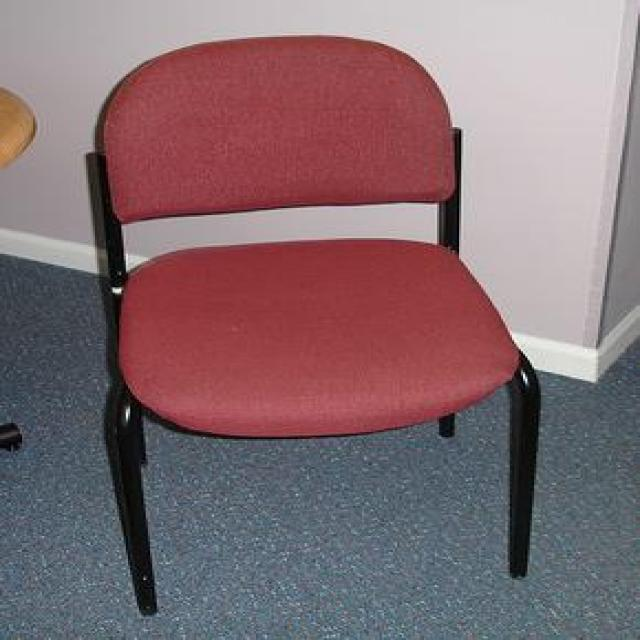chair: (84, 34, 541, 616)
